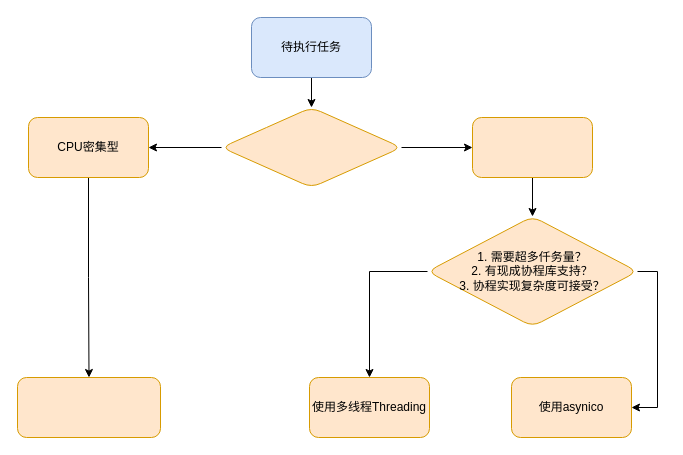
Some shapes in this 683 by 455 pixel diagram are drawn without their labels. Each missing label, with the centre of its shape:
"IO密集型" goes at pixel 532 147.
"任务特点" goes at pixel 311 147.
"使用多进程 multiprocessing" goes at pixel 88 407.
